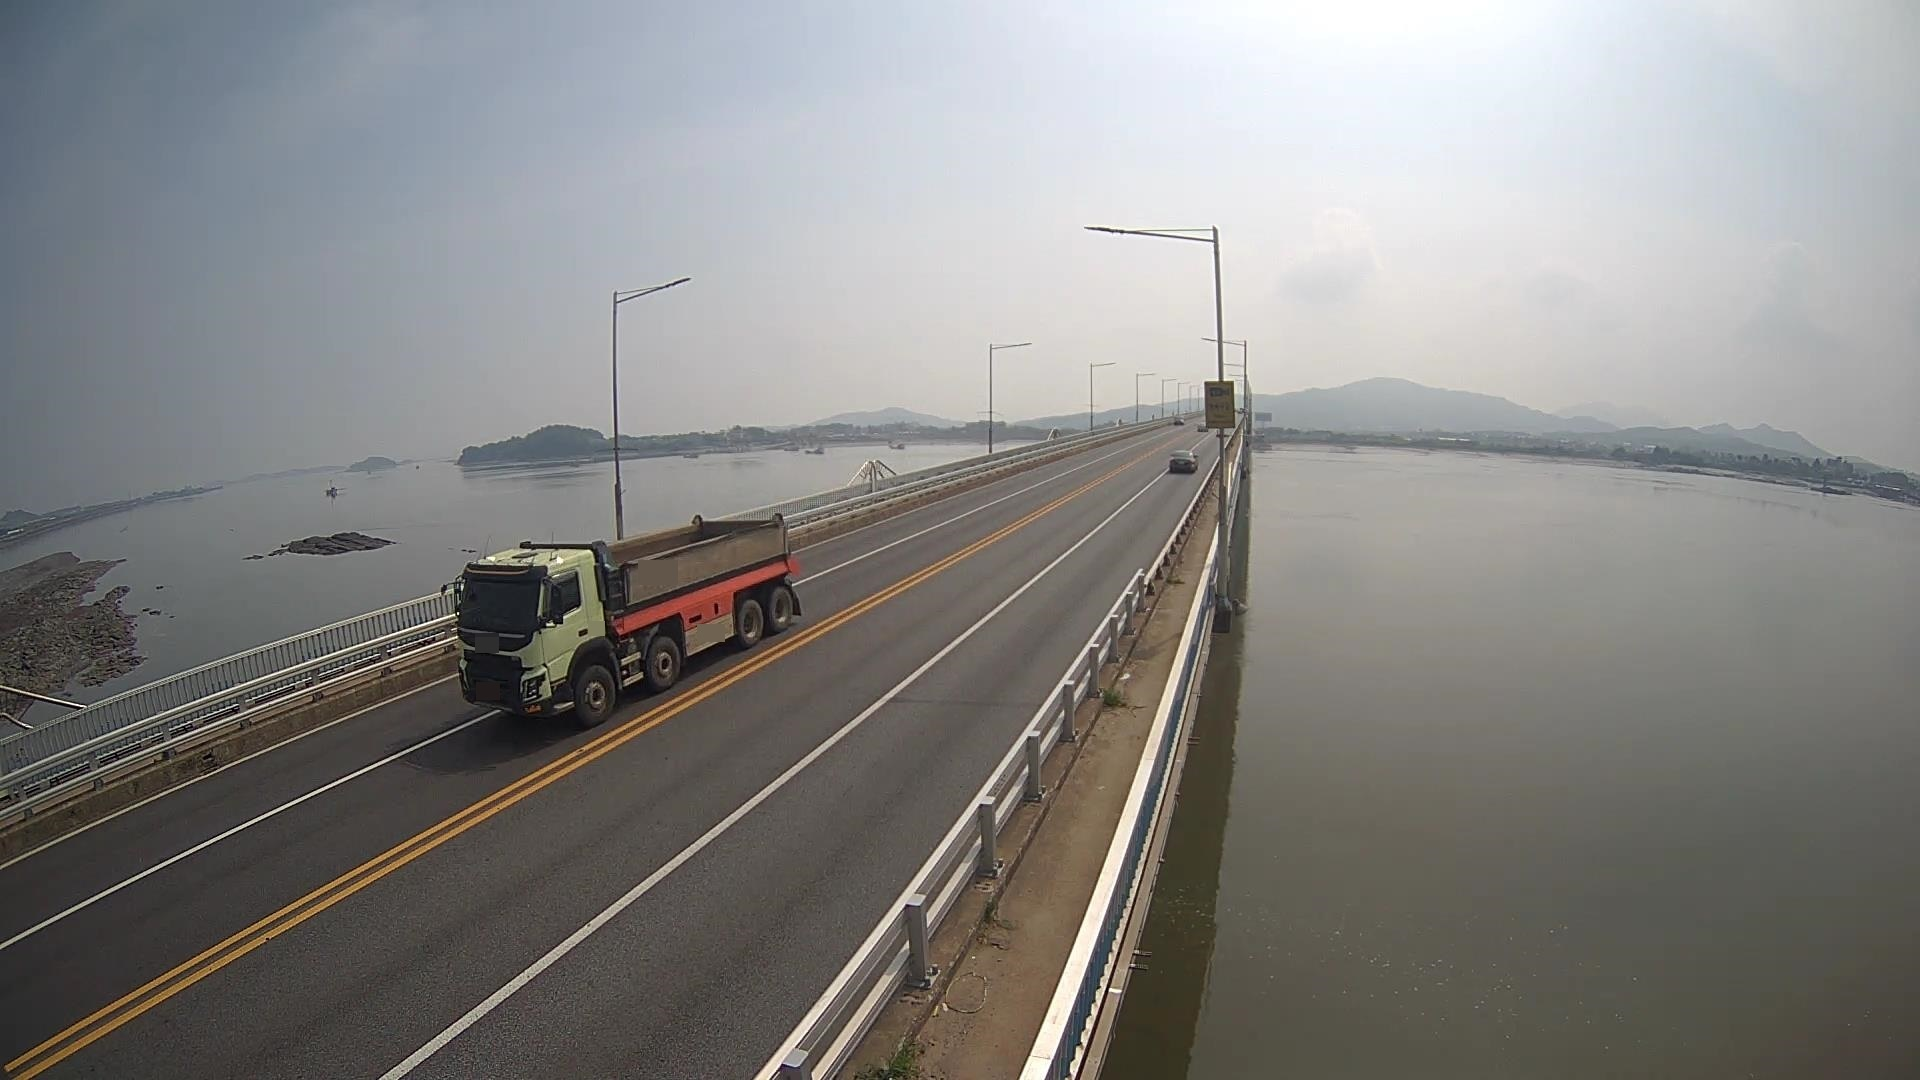정상차량: (440, 513, 802, 727)
